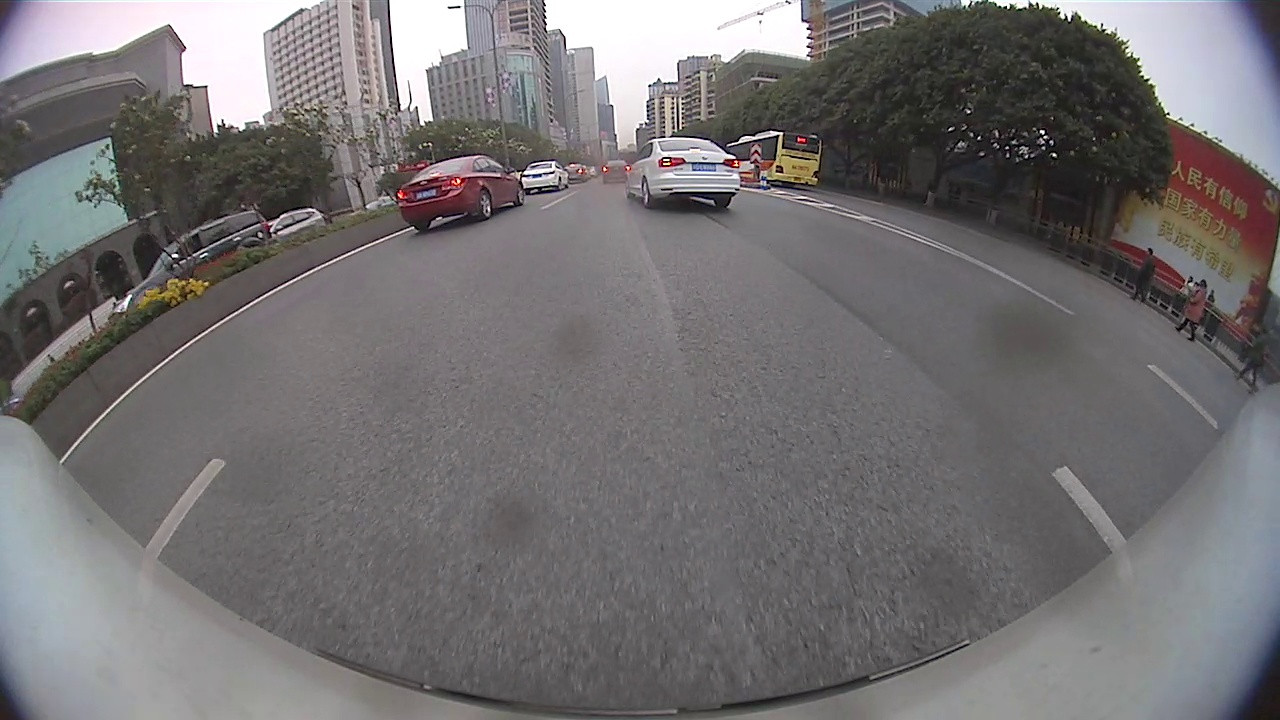bus: (722, 126, 821, 185)
car: (117, 208, 272, 317), (397, 153, 526, 233), (625, 136, 739, 210), (266, 209, 332, 239), (522, 157, 570, 194), (602, 158, 632, 185), (561, 164, 588, 185)
front: (516, 185, 525, 206)
person: (1190, 278, 1207, 343), (1251, 324, 1265, 389), (1142, 245, 1154, 303)
rear: (478, 189, 494, 219), (640, 178, 651, 207)
